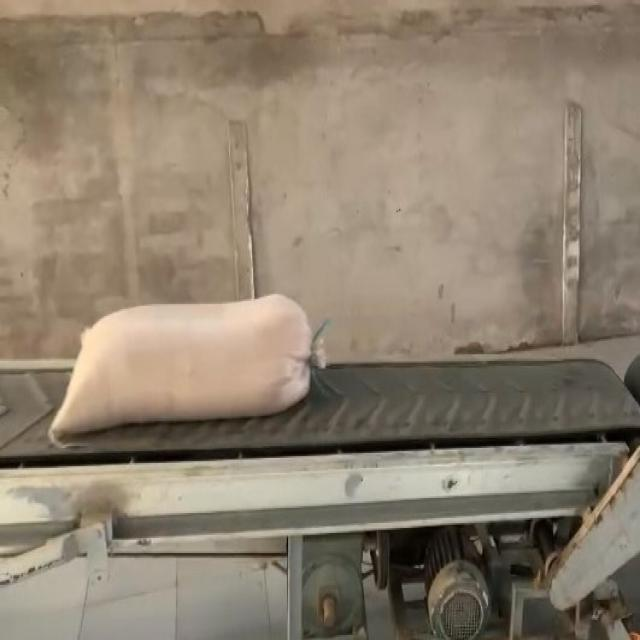gunny_bag: (51, 294, 312, 439)
